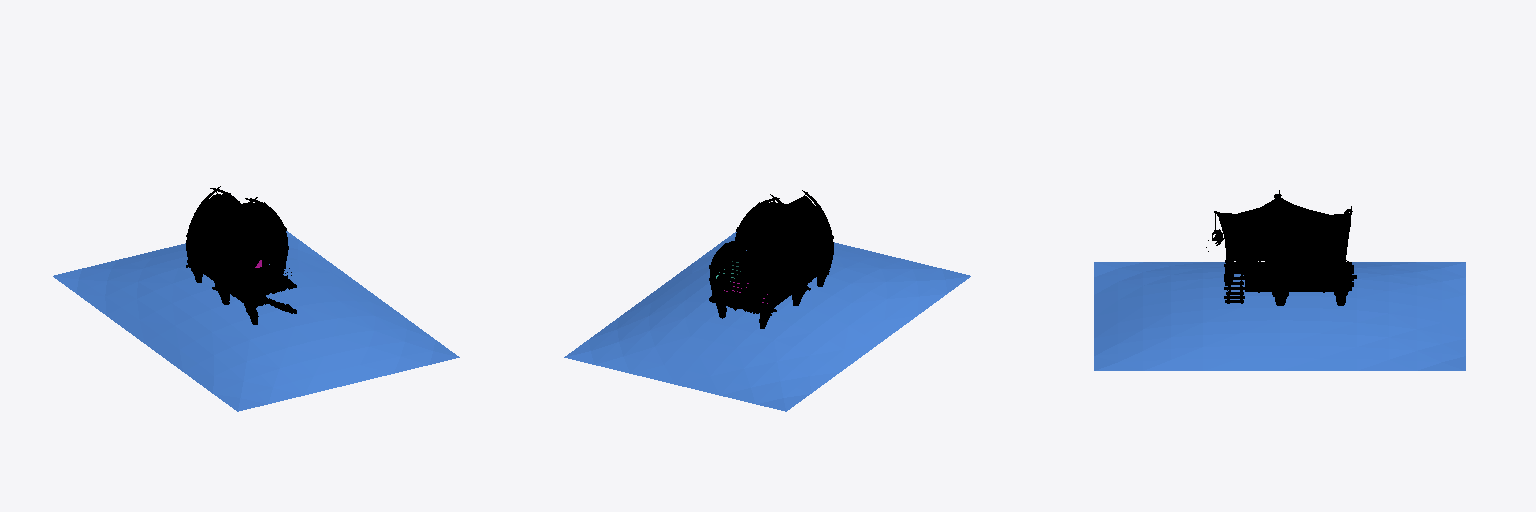
3 renders of one model, left to right at view 1: azimuth 30°, elevation 25°; view 2: azimuth 150°, elevation 25°; view 3: azimuth 270°, elevation 25°, orthographic.
Visible parts, largest first — view 1: Plane002, kozha_low, Plane001, zub_002; view 2: Plane002, kozha_low, qqq001, zub_002; view 3: Plane002, kozha_low, Plane001, zub_1.
Part boxes in pixels (bbox=[...]): Plane002: bbox=[53, 231, 459, 411]; kozha_low: bbox=[191, 194, 282, 302]; Plane001: bbox=[187, 259, 296, 308]; zub_002: bbox=[211, 197, 257, 304]; Plane002: bbox=[564, 232, 970, 411]; kozha_low: bbox=[715, 196, 829, 306]; qqq001: bbox=[715, 245, 769, 306]; zub_002: bbox=[770, 194, 811, 305]; Plane002: bbox=[1094, 262, 1465, 370]; kozha_low: bbox=[1218, 198, 1347, 289]; Plane001: bbox=[1224, 262, 1356, 291]; zub_1: bbox=[1275, 190, 1286, 305].
Size of the model in its own units: 38 by 19.83 by 54.91.